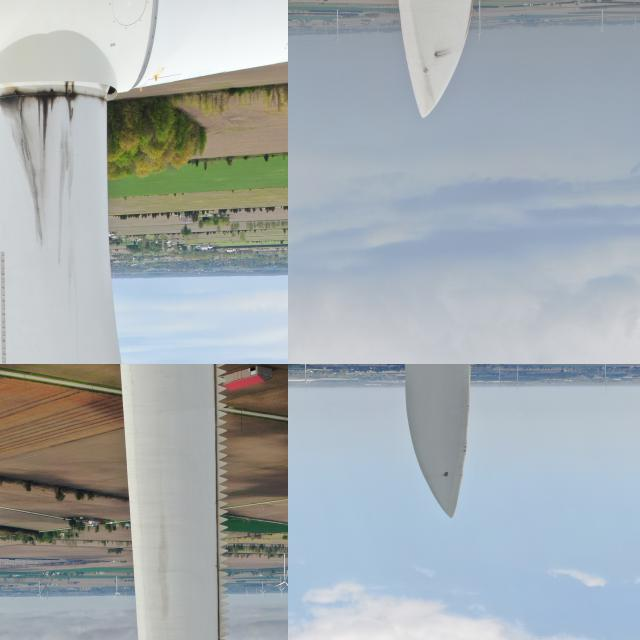damage: (0, 88, 79, 156), (462, 436, 468, 454), (458, 468, 464, 482), (434, 50, 438, 58)
